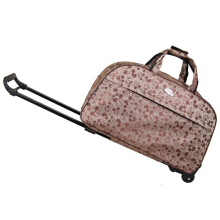shoutibox: (2, 46, 220, 183)
